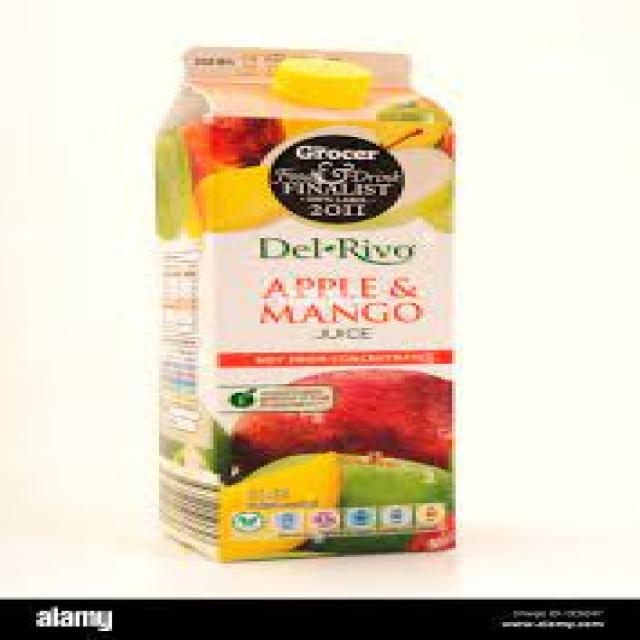non_white_jug: (125, 18, 522, 570)
